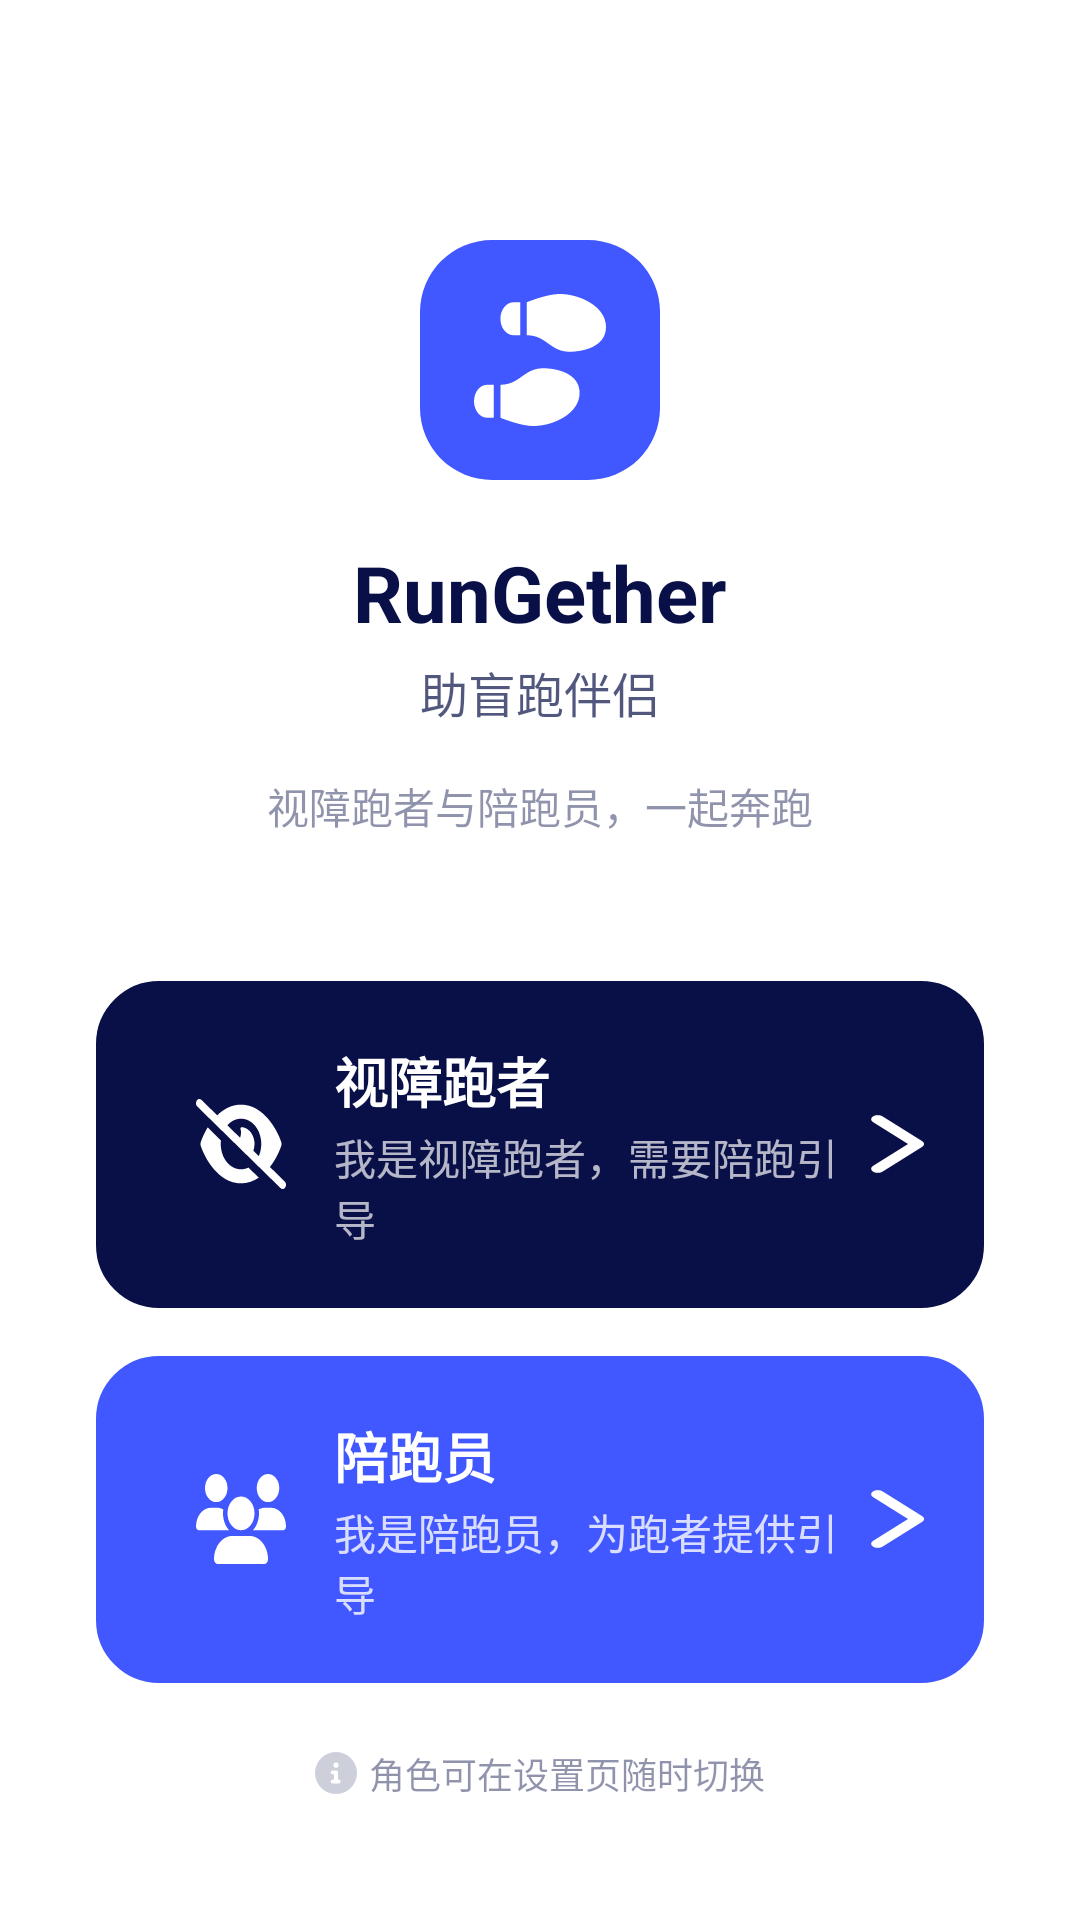

Named icons in this screenshot (1080px×1920px) and their centers, point (x, y):
chevron right: point (897, 1144), point (897, 1519)
circle info: point (336, 1773)
eye slash: point (241, 1144)
shoe prints: point (540, 360)
users: point (241, 1519)
